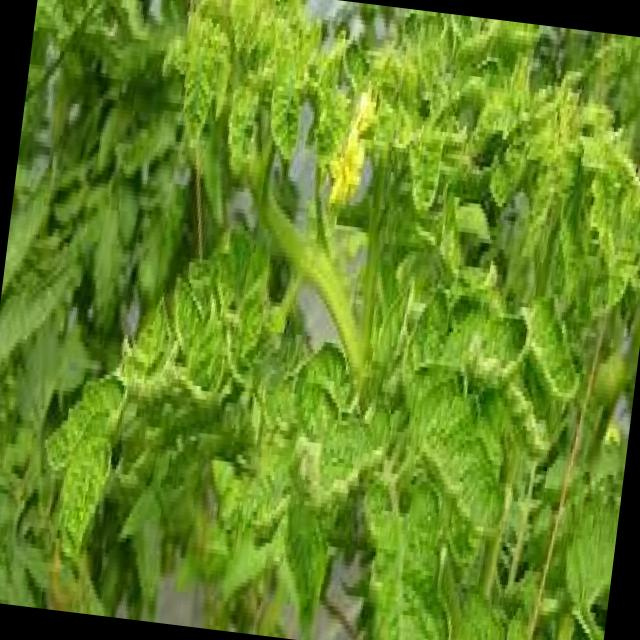Chilli_Leaf_Curl: (0, 0, 640, 640), (23, 205, 294, 629)
